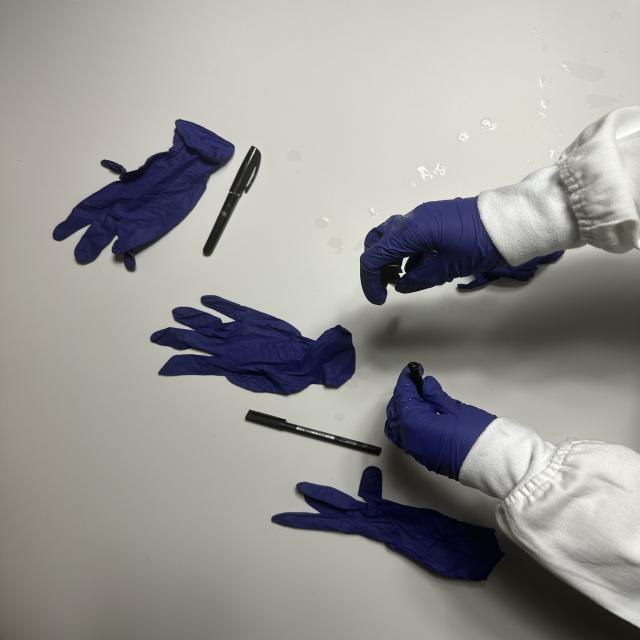gloves_contaminated: (360, 197, 507, 305), (385, 372, 496, 480)
